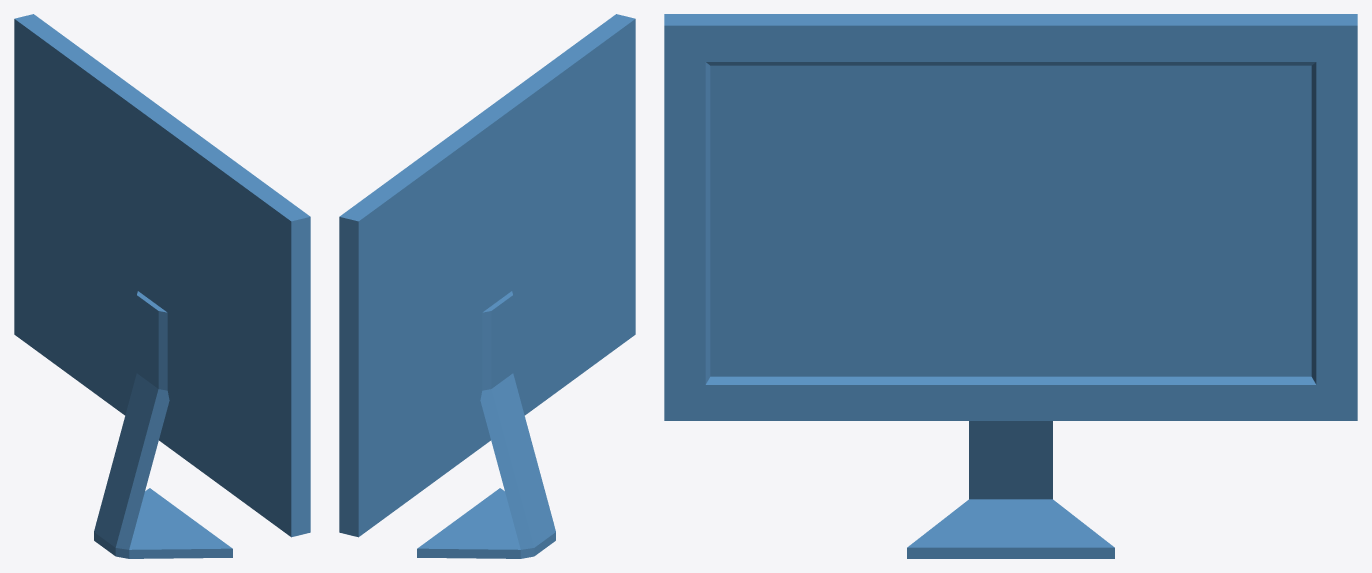
The model's file is deskPC.fbx.
3 views of the same model, side by side, from view 1: azimuth 30°, elevation 25°; view 2: azimuth 150°, elevation 25°; view 3: azimuth 270°, elevation 25° (orthographic). The views are drawn at different scales.
Parts seen in each view (by area): view 1: Computer; view 2: Computer; view 3: Computer.
Part boxes in pixels (box(x1,y1,x2,y2)): Computer: box(14, 14, 310, 558); Computer: box(339, 14, 635, 558); Computer: box(664, 14, 1357, 558).
Size of the model in its own units: 5.04 by 23.19 by 27.93.
